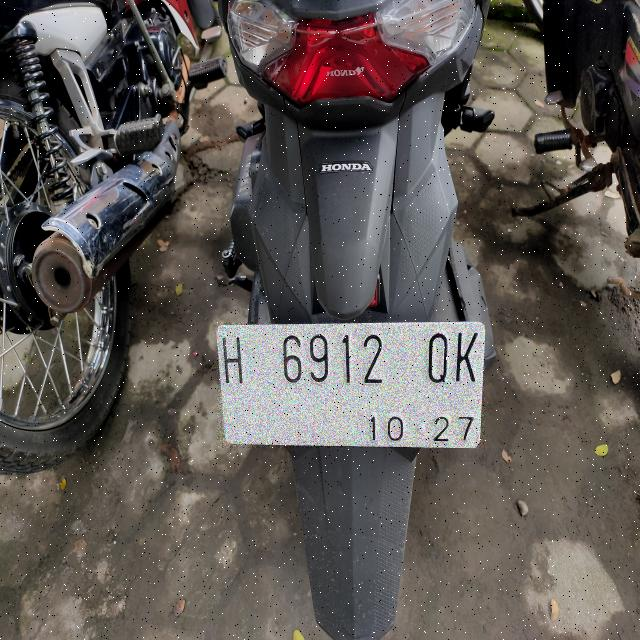plate: (218, 322, 484, 447)
